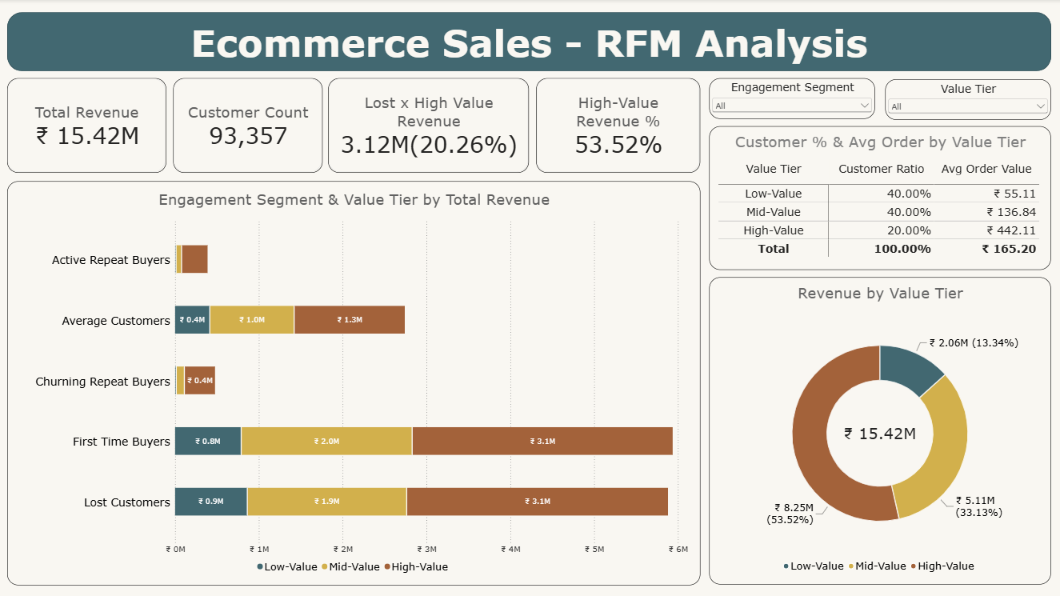

The dashboard page shown, as its layout file describes it:
{"tool":"powerbi","page":{"name":"Page 1","canvas":[1920,1080],"ordinal":0},"visuals":[{"type":"cardVisual","fields":{"Data":[" Measures.Total Revenue"]},"box":[14.4,143.3,287.8,171.1],"z":0},{"type":"donutChart","title":"Revenue by Value Tier","fields":{"Y":[" Measures.Total Revenue"],"Category":["vw_rfm_segments.value_tier"]},"box":[1285.5,503.6,618.2,556.4],"z":1000},{"type":"barChart","title":"Engagement Segment & Value Tier by Total Revenue","fields":{"Category":["vw_rfm_segments.engagement_segment"],"Y":[" Measures.Total Revenue"],"Series":["vw_rfm_segments.value_tier"]},"box":[14.5,329.4,1254.1,731.1],"z":2000},{"type":"pivotTable","title":"Customer % & Avg Order by Value Tier","fields":{"Values":[" Measures.Total Customers"," Measures.Avg Order Value"],"Rows":["vw_rfm_segments.value_tier"]},"box":[1285.5,229.1,618.2,260],"z":3000},{"type":"cardVisual","fields":{"Data":[" Measures.High-Value Revenue %"]},"box":[972.2,143.3,296.7,171.1],"z":4000},{"type":"cardVisual","fields":{"Data":[" Measures.Total Customers"]},"box":[314.4,143.3,270,171.1],"z":5000},{"type":"cardVisual","fields":{"Data":[" Measures.Combined Measure"]},"box":[595.6,143.3,363.3,171.1],"z":6000},{"type":"shape","box":[14.5,23.5,1889.3,106.8],"z":7000},{"type":"slicer","title":"Engagement Segment","fields":{"Values":["vw_rfm_segments.engagement_segment"]},"box":[1285.6,143.3,300,73.3],"z":9001},{"type":"slicer","title":"Value Tier","fields":{"Values":["vw_rfm_segments.value_tier"]},"box":[1604,144,300,73.3],"z":9002}]}

Visuals, with their boxes in screenshot pixels (x1, y1, x2, y2), scaled from the page's 1920x1080 canvas onto the 1060x596 screenshot:
cardVisual -  Measures.Total Revenue: Rect(8, 79, 167, 174)
"Revenue by Value Tier" donutChart: Rect(710, 278, 1051, 585)
"Engagement Segment & Value Tier by Total Revenue" barChart: Rect(8, 182, 700, 585)
"Customer % & Avg Order by Value Tier" pivotTable: Rect(710, 126, 1051, 270)
cardVisual -  Measures.High-Value Revenue %: Rect(537, 79, 701, 174)
cardVisual -  Measures.Total Customers: Rect(174, 79, 323, 174)
cardVisual -  Measures.Combined Measure: Rect(329, 79, 529, 174)
shape: Rect(8, 13, 1051, 72)
"Engagement Segment" slicer: Rect(710, 79, 875, 120)
"Value Tier" slicer: Rect(886, 79, 1051, 120)
